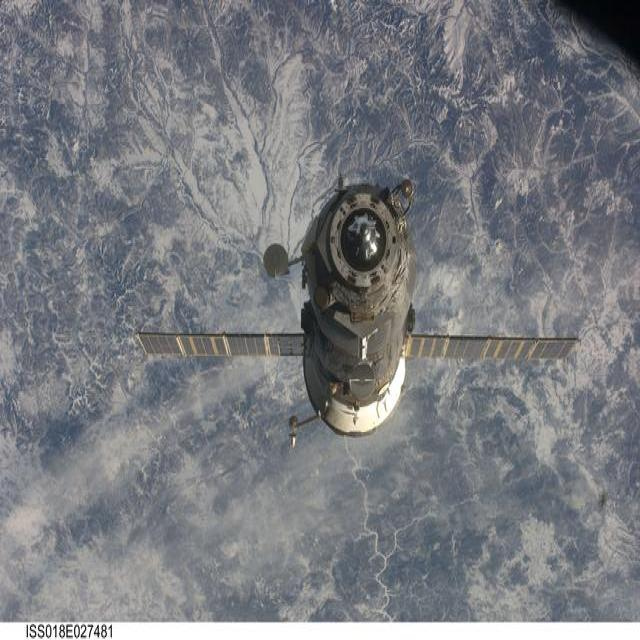medium_debris: (138, 178, 578, 444)
